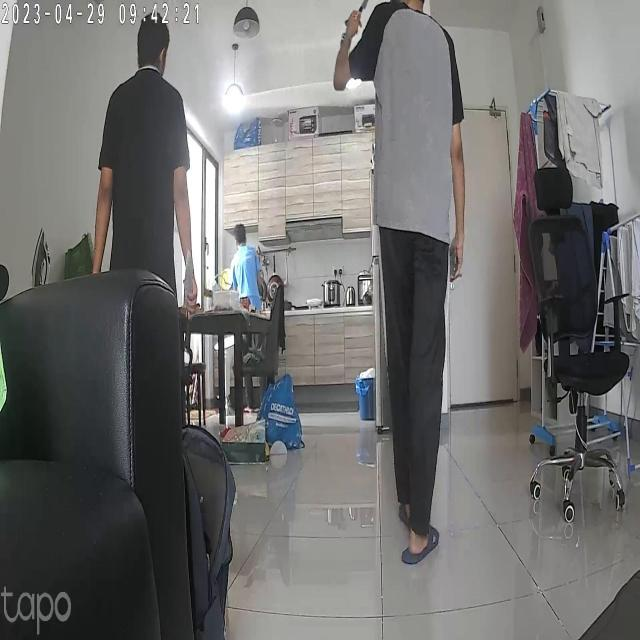Knife: (173, 252, 209, 338)
